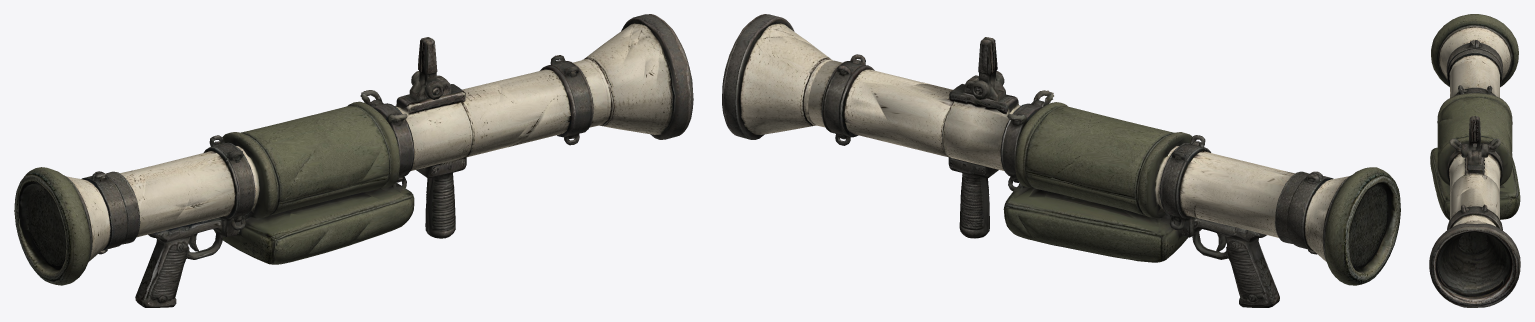
The model's file is rocket.glb.
3 renders of one model, left to right at view 1: azimuth 30°, elevation 25°; view 2: azimuth 150°, elevation 25°; view 3: azimuth 270°, elevation 25°, orthographic. The views are drawn at different scales.
Parts seen in each view (by area): view 1: tripo_node_31d95a23-93ac-4637-b821-ab5ebb559af5; view 2: tripo_node_31d95a23-93ac-4637-b821-ab5ebb559af5; view 3: tripo_node_31d95a23-93ac-4637-b821-ab5ebb559af5.
Part boxes in pixels (left/top/right/bottom): tripo_node_31d95a23-93ac-4637-b821-ab5ebb559af5: left=14, top=14, right=693, bottom=307; tripo_node_31d95a23-93ac-4637-b821-ab5ebb559af5: left=722, top=14, right=1400, bottom=307; tripo_node_31d95a23-93ac-4637-b821-ab5ebb559af5: left=1429, top=14, right=1520, bottom=307.
Bounding box in the file's own units: 0.9793 × 0.306 × 0.1727.
1 material, 1 textured.
